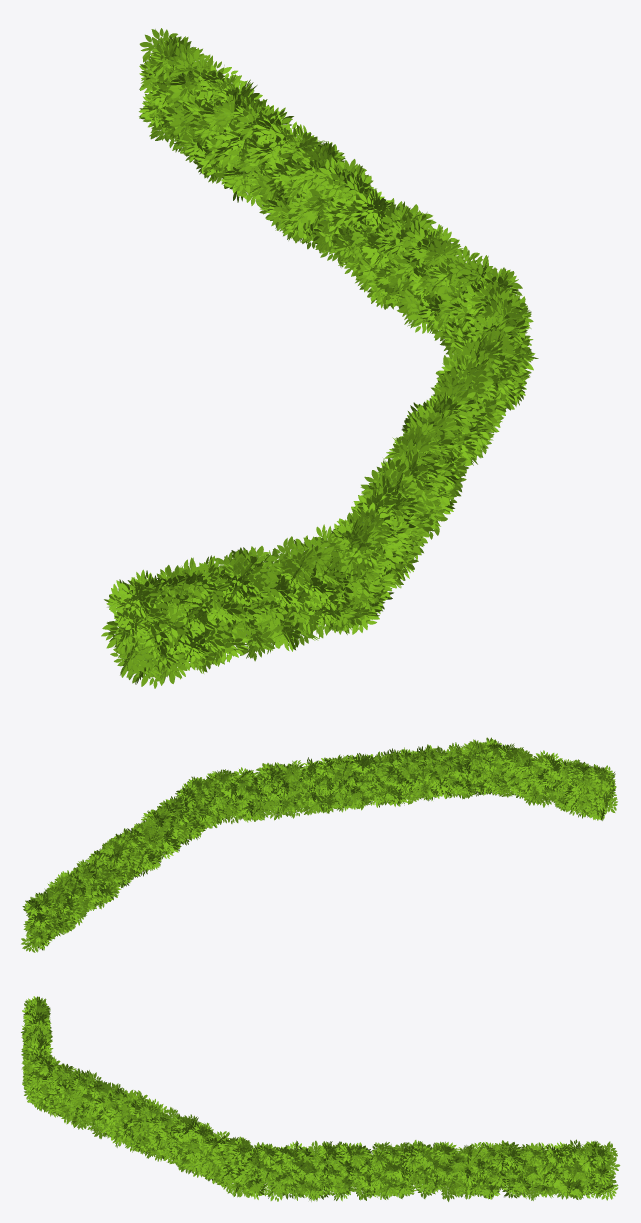
File: Big Hedge TEST333333222.fbx
3 renders of one model, top to bottom at view 1: azimuth 30°, elevation 25°; view 2: azimuth 150°, elevation 25°; view 3: azimuth 270°, elevation 25°, orthographic. The views are drawn at different scales.
Parts seen in each view (by area): view 1: Plane.001; view 2: Plane.001; view 3: Plane.001.
Boxes of the visible parts, bbox=[...] form: Plane.001: bbox=[101, 28, 538, 688]; Plane.001: bbox=[21, 737, 617, 952]; Plane.001: bbox=[21, 996, 620, 1201].
Bounding box in the file's own units: 2806 × 565 × 4371.
Materials: 1 (1 with a texture image).
